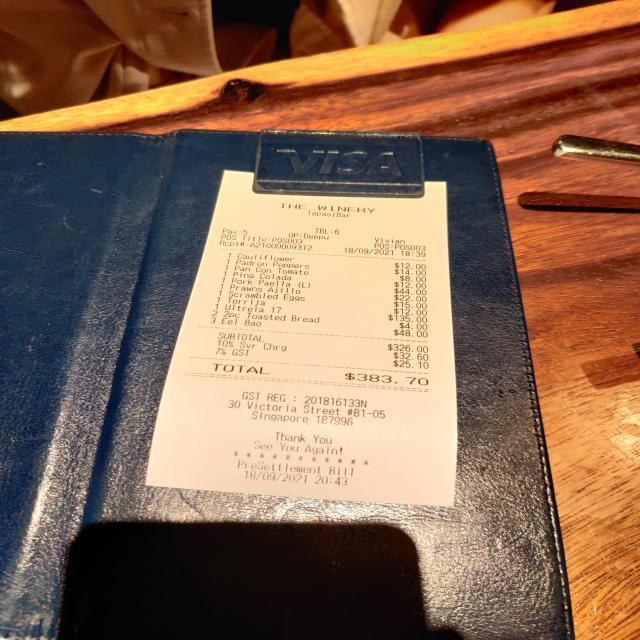bill_region: (202, 251, 438, 390)
